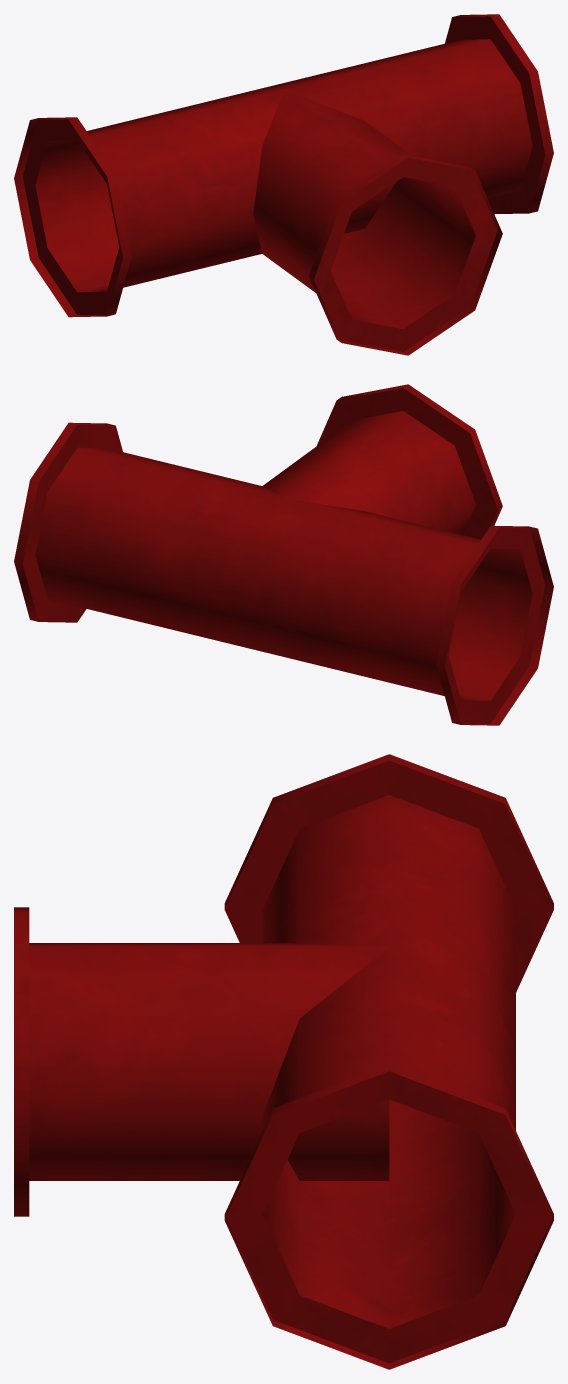
The model's file is PipeBig_T.FBX.
3 views of the same model, one above another, from view 1: azimuth 30°, elevation 25°; view 2: azimuth 150°, elevation 25°; view 3: azimuth 270°, elevation 25° (orthographic). The views are drawn at different scales.
Visible parts, largest first — view 1: PipeBig_T; view 2: PipeBig_T; view 3: PipeBig_T.
Boxes of the visible parts, x1,y1,x2,y2 form: PipeBig_T: (14, 14, 553, 355); PipeBig_T: (14, 384, 553, 725); PipeBig_T: (14, 754, 553, 1369).
Size of the model in its own units: 11.66 by 5.12 by 8.39.
